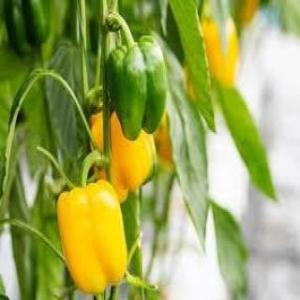bell_pepper: (108, 36, 168, 140)
